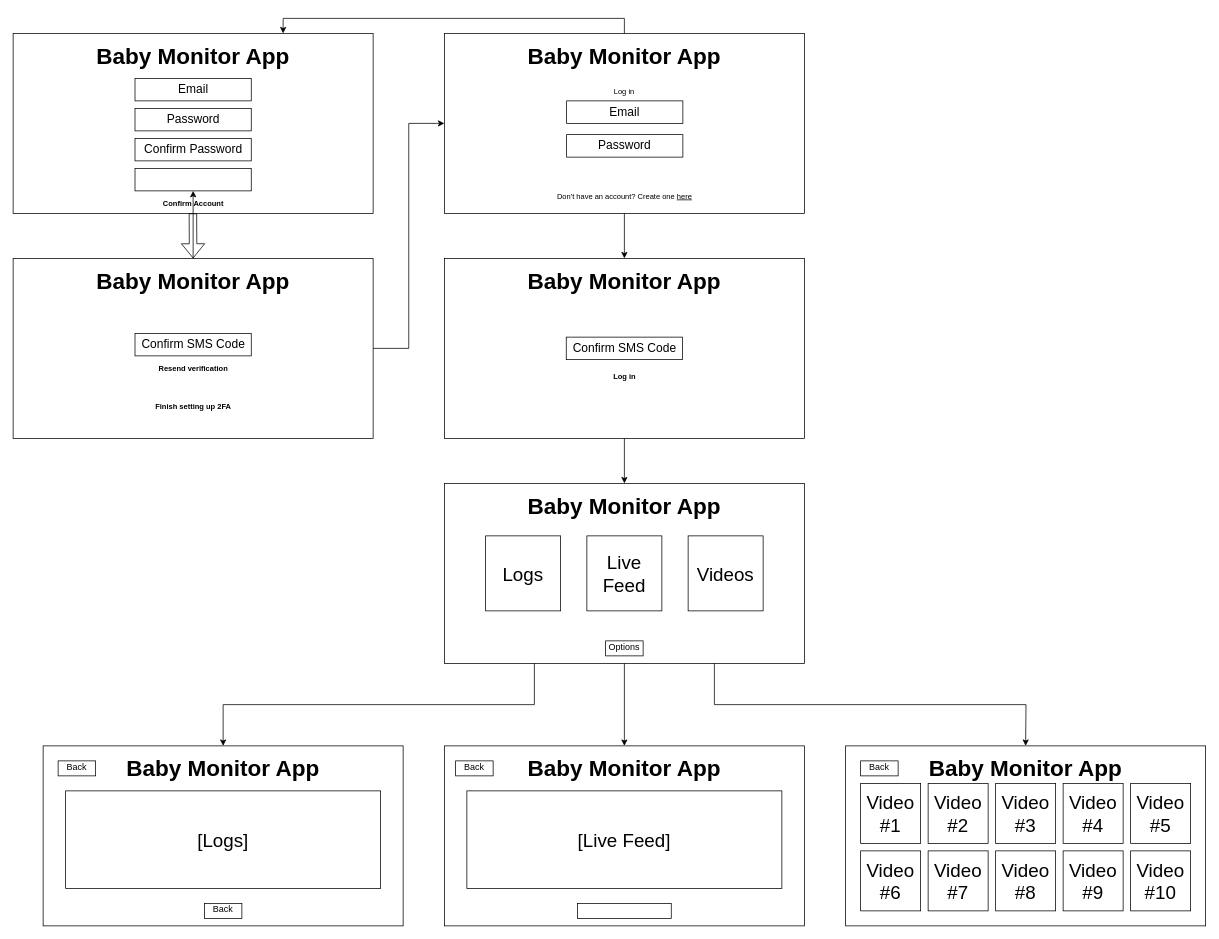
Some shapes in this 1219 by 939 pixel diagram are drawn without their labels. Each missing label, with the centre of its shape:
Phone Number: point (192, 179)
Toggled Record: point (624, 910)
